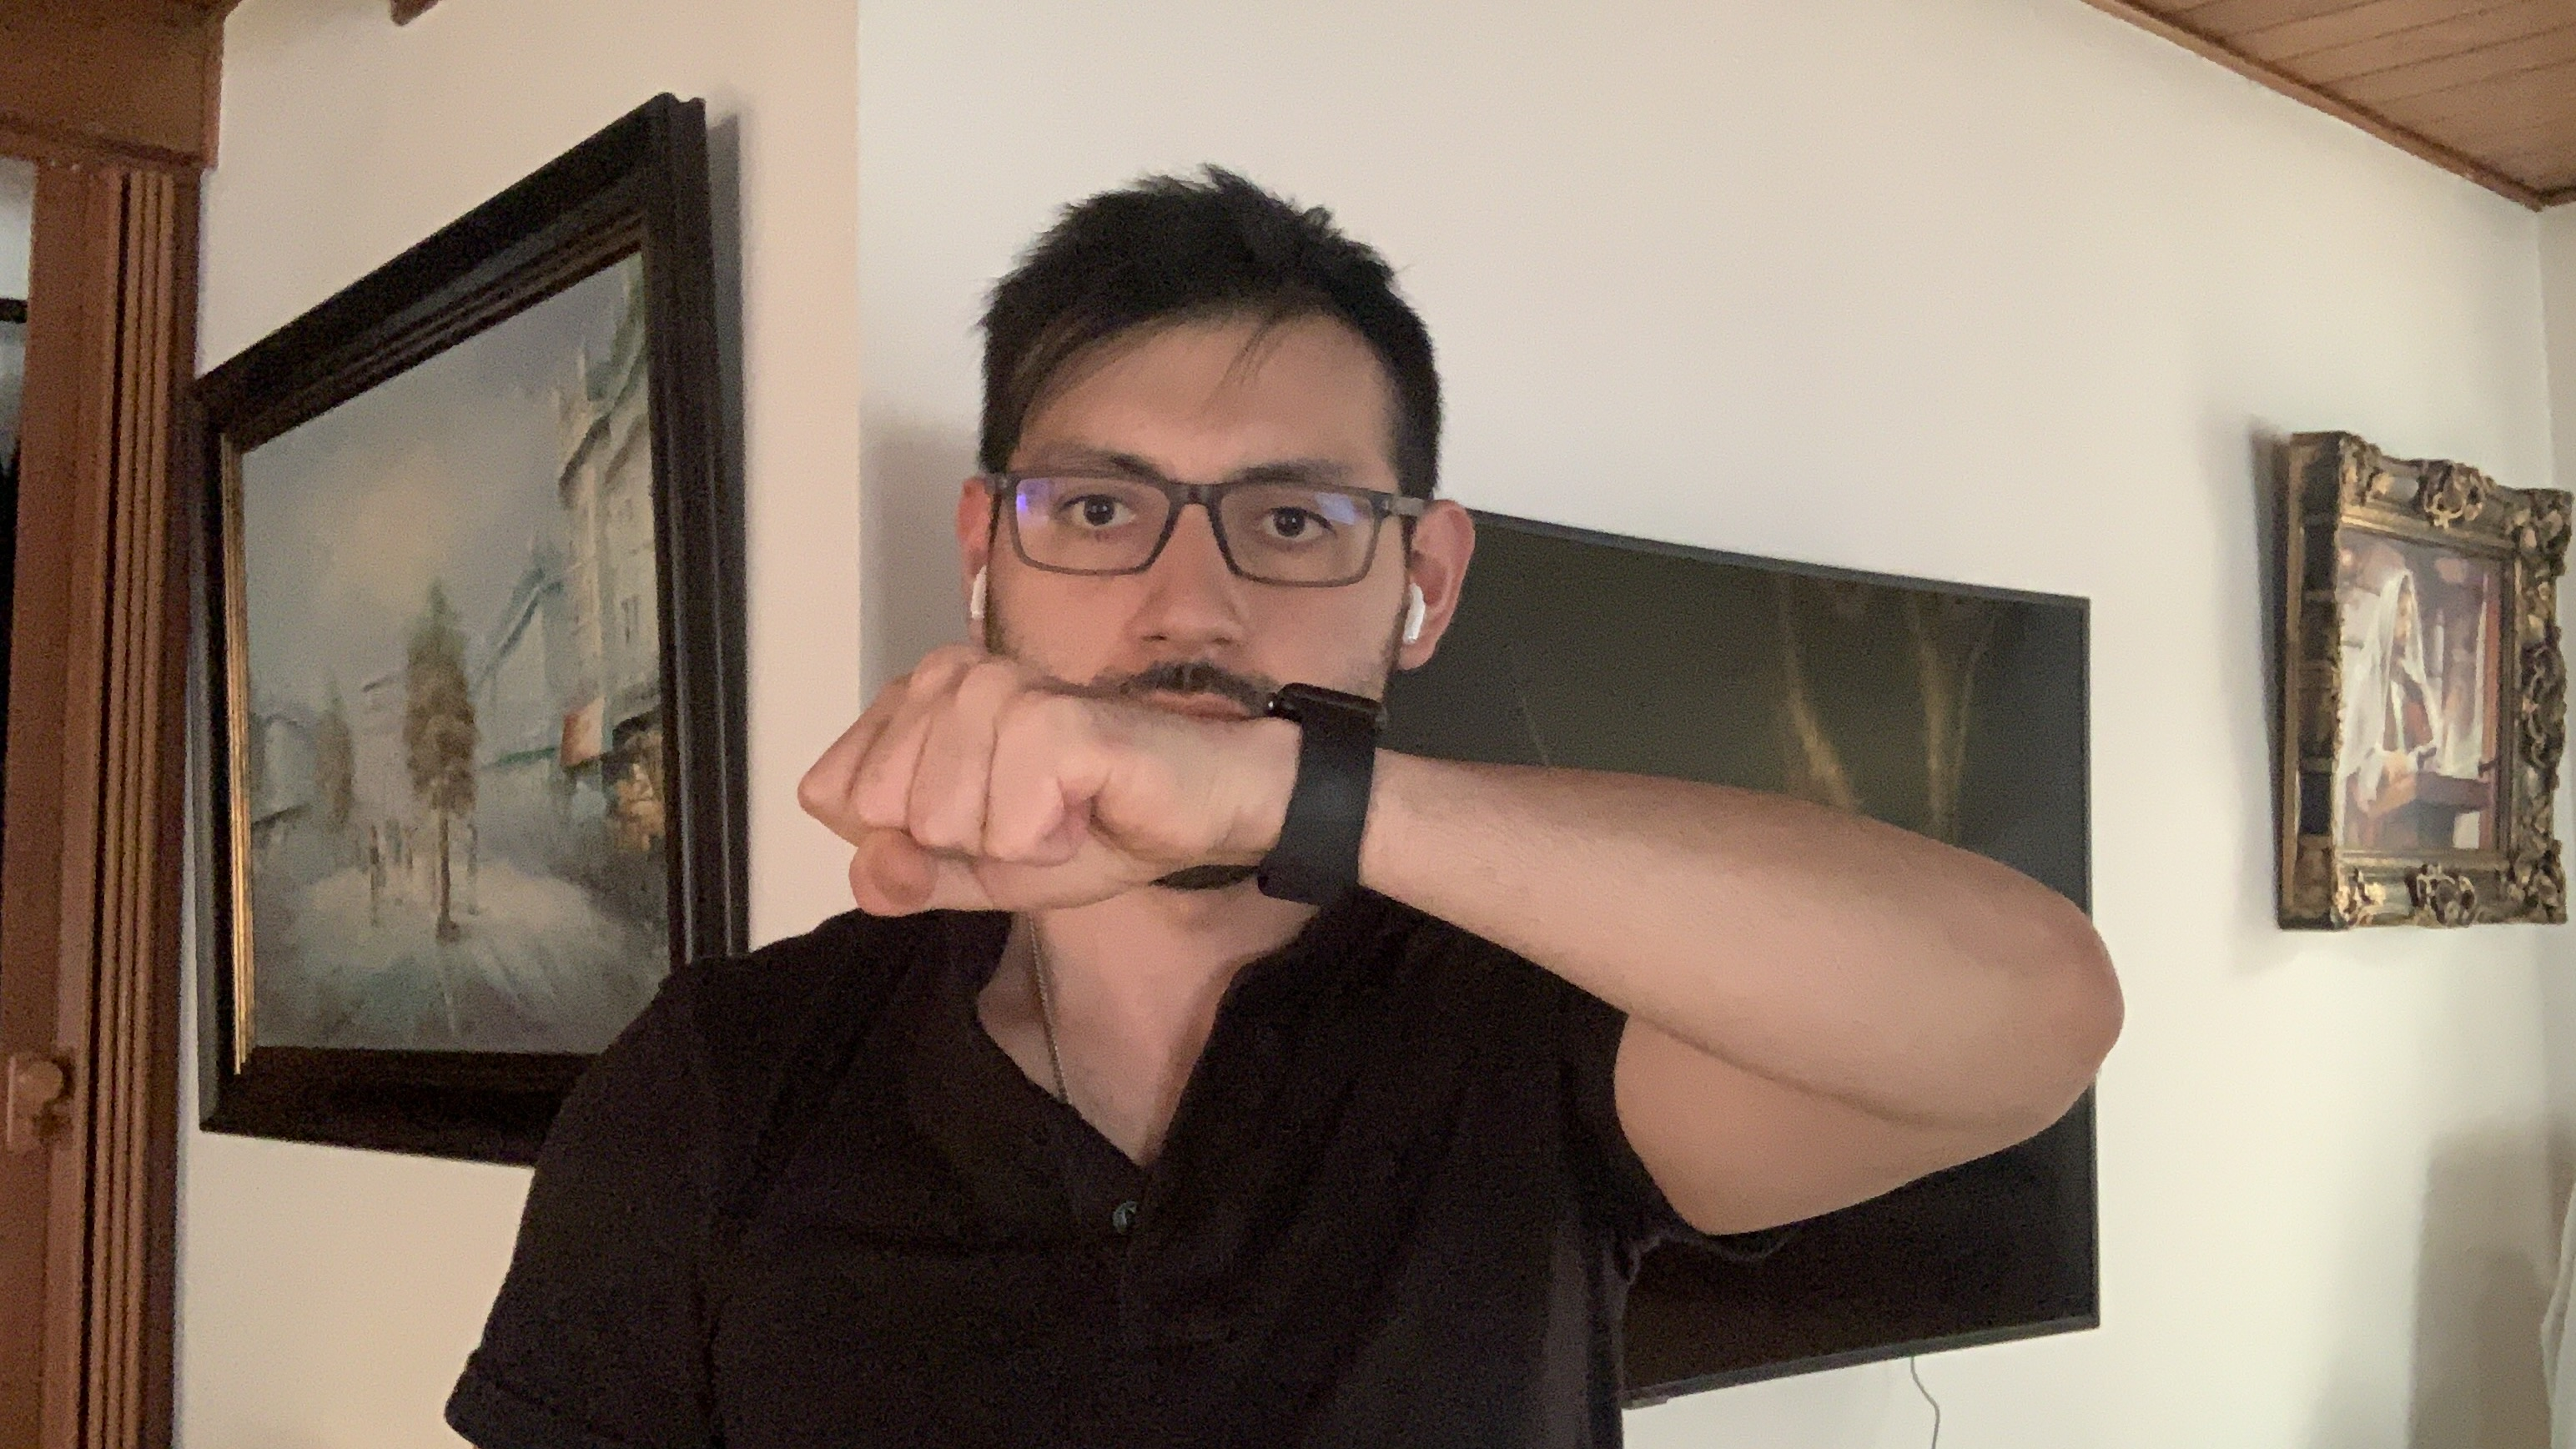Yes: (784, 630, 1182, 936)
